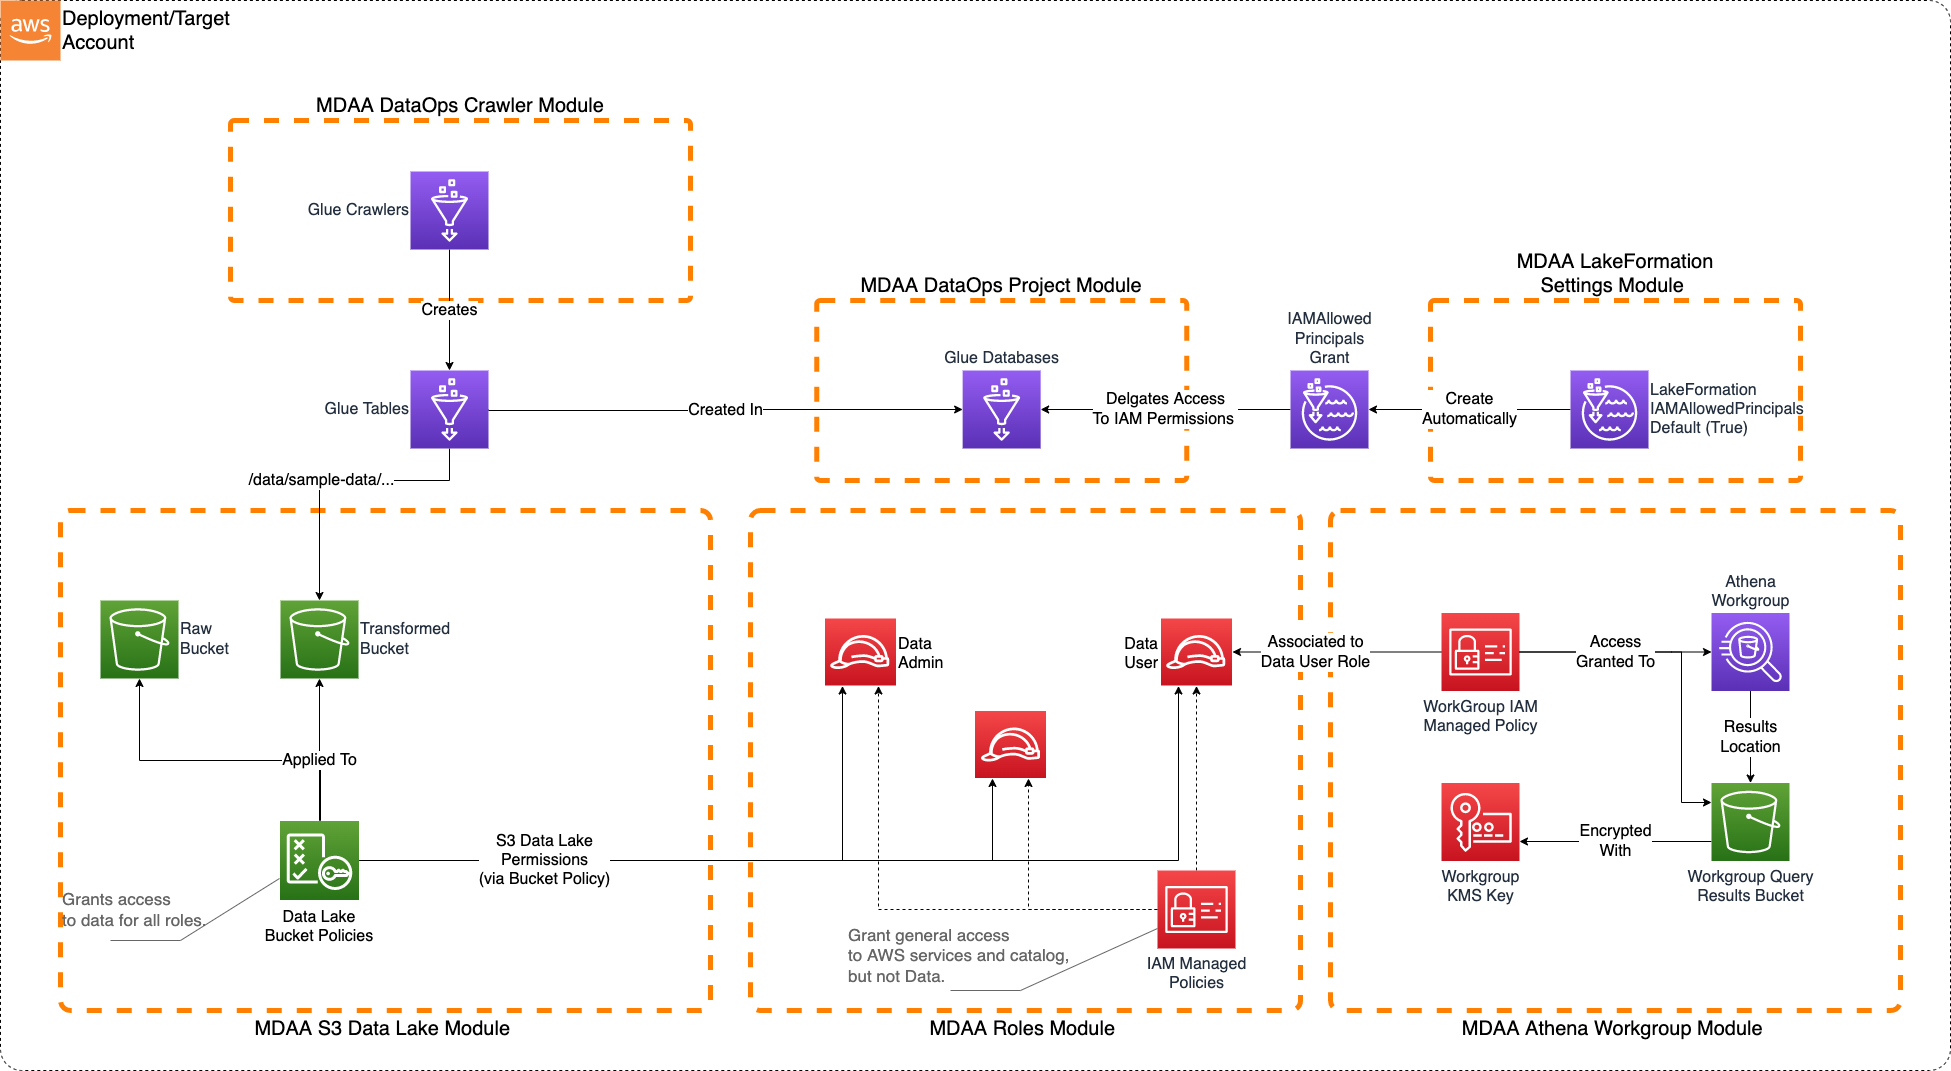athena: (1714, 617, 1786, 687)
glue: (964, 373, 1037, 443), (413, 377, 485, 447), (413, 177, 485, 245)
iam: (1159, 872, 1233, 947), (1443, 613, 1517, 688)
kms: (1443, 782, 1520, 863)
s3: (1711, 786, 1788, 861), (102, 601, 178, 677), (283, 601, 360, 677)
